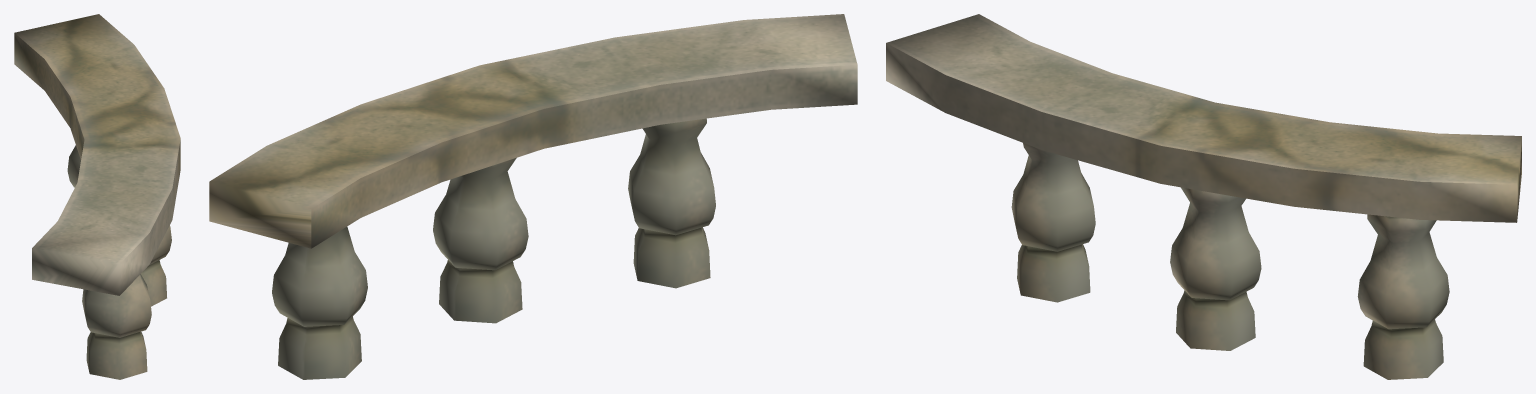
File: pavilion04.fbx
The picture shows the model from 3 angles, left to right: view 1: azimuth 30°, elevation 25°; view 2: azimuth 150°, elevation 25°; view 3: azimuth 270°, elevation 25°; orthographic projection. The views are drawn at different scales.
Parts seen in each view (by area): view 1: Cylinder.003; view 2: Cylinder.003; view 3: Cylinder.003.
Boxes of the visible parts, <box> form: Cylinder.003: <box>14,14,180,379</box>; Cylinder.003: <box>209,14,857,379</box>; Cylinder.003: <box>886,14,1521,379</box>.
Size of the model in its own units: 136 by 75.5 by 214.
